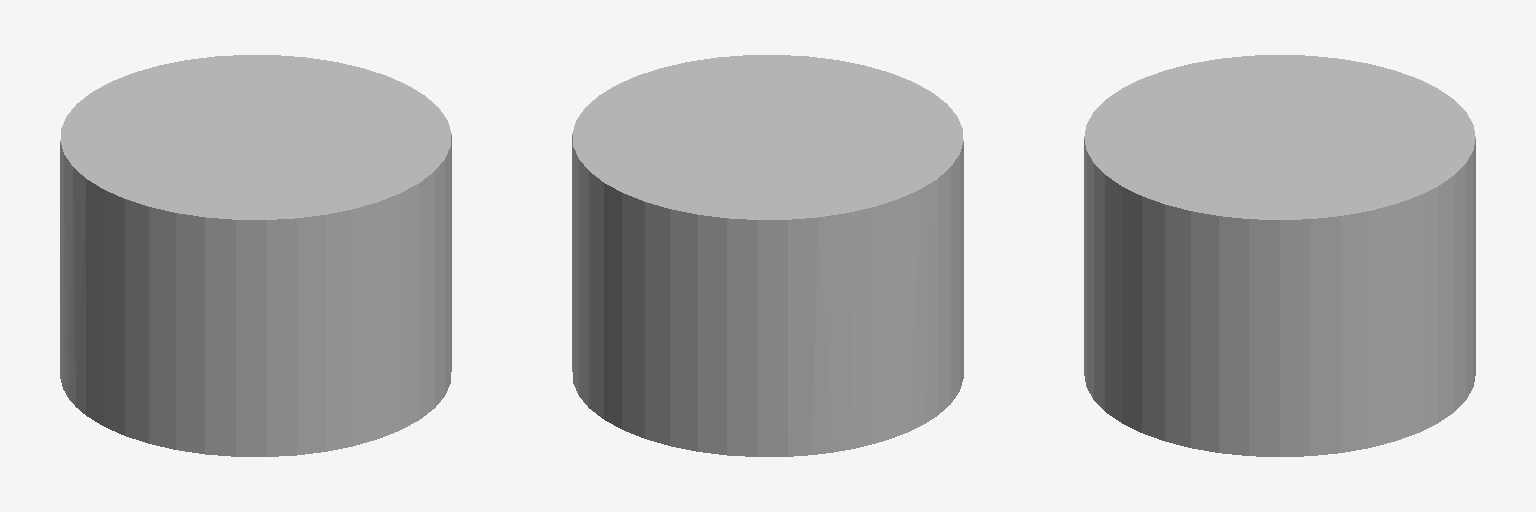
Rendered from original-5.obj.
3 views of the same model, side by side, from view 1: azimuth 30°, elevation 25°; view 2: azimuth 150°, elevation 25°; view 3: azimuth 270°, elevation 25° (orthographic).
Parts seen in each view (by area): view 1: mesh4/mesh4-geometry#mesh4-geometry; view 2: mesh4/mesh4-geometry#mesh4-geometry; view 3: mesh4/mesh4-geometry#mesh4-geometry.
Part boxes in pixels (x1,y1,x2,y2): mesh4/mesh4-geometry#mesh4-geometry: (60, 55, 451, 456); mesh4/mesh4-geometry#mesh4-geometry: (572, 55, 963, 456); mesh4/mesh4-geometry#mesh4-geometry: (1084, 55, 1475, 456).
Bounding box in the file's own units: 0.1486 × 0.0992 × 0.1486.